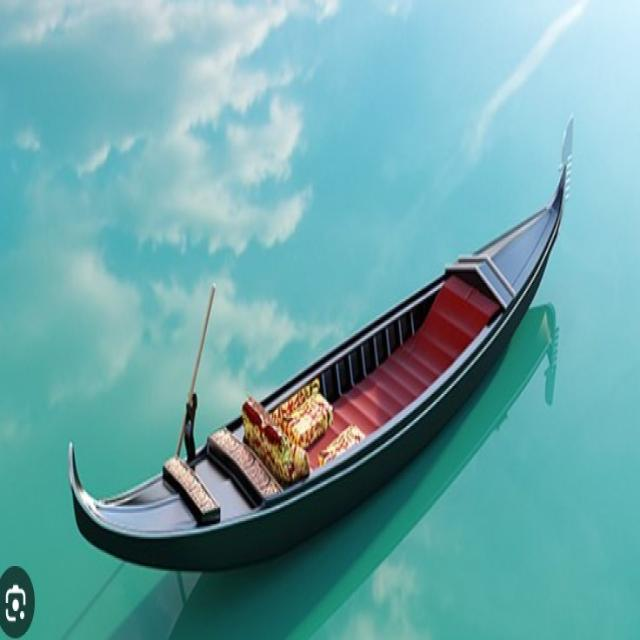boat: (57, 100, 598, 584)
